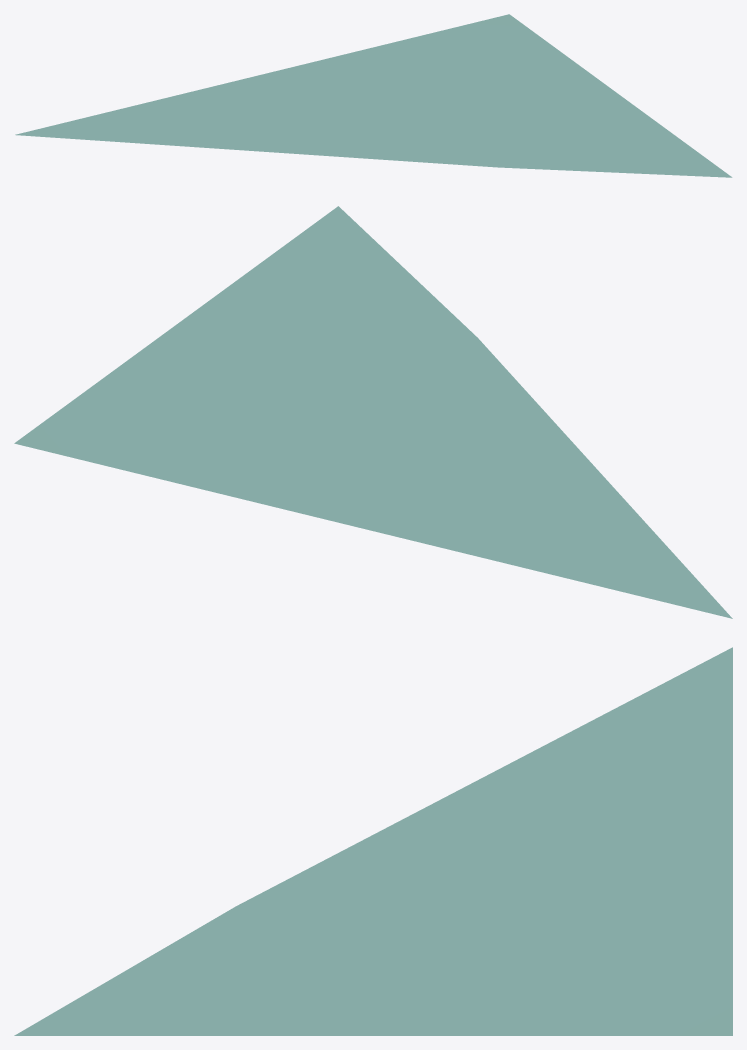
File: water-17-2.glb
3 views of the same model, one above another, from view 1: azimuth 30°, elevation 25°; view 2: azimuth 150°, elevation 25°; view 3: azimuth 270°, elevation 25° (orthographic). The views are drawn at different scales.
Bounding box in the file's own units: 0.87 × 0 × 0.68.
